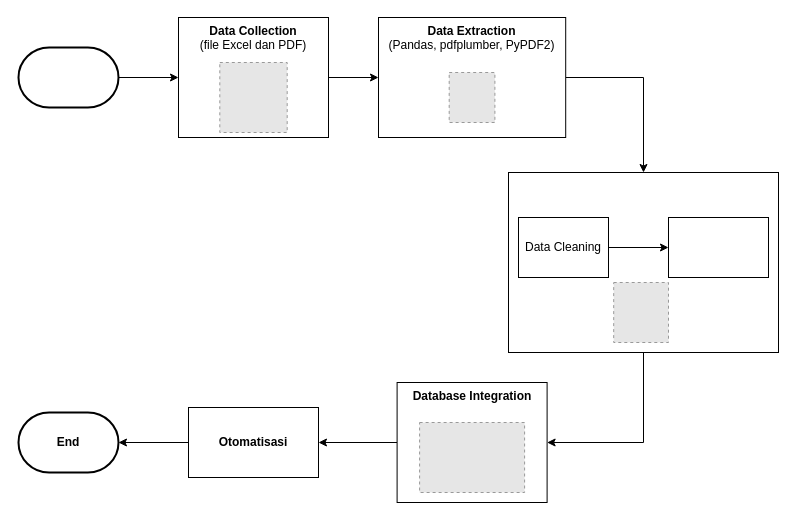
Some shapes in this 796 by 520 pixel diagram are drawn without their labels. Grey dashed boxes stand in for pictures. The shapes that lost their labels are listed below. From the top down, each one's box as (x1, y1, x2, y2) in pixels, then its label:
(17, 46, 119, 108): Start
(508, 172, 778, 352): Data Preprocessing
(668, 216, 768, 278): Data Transformation
